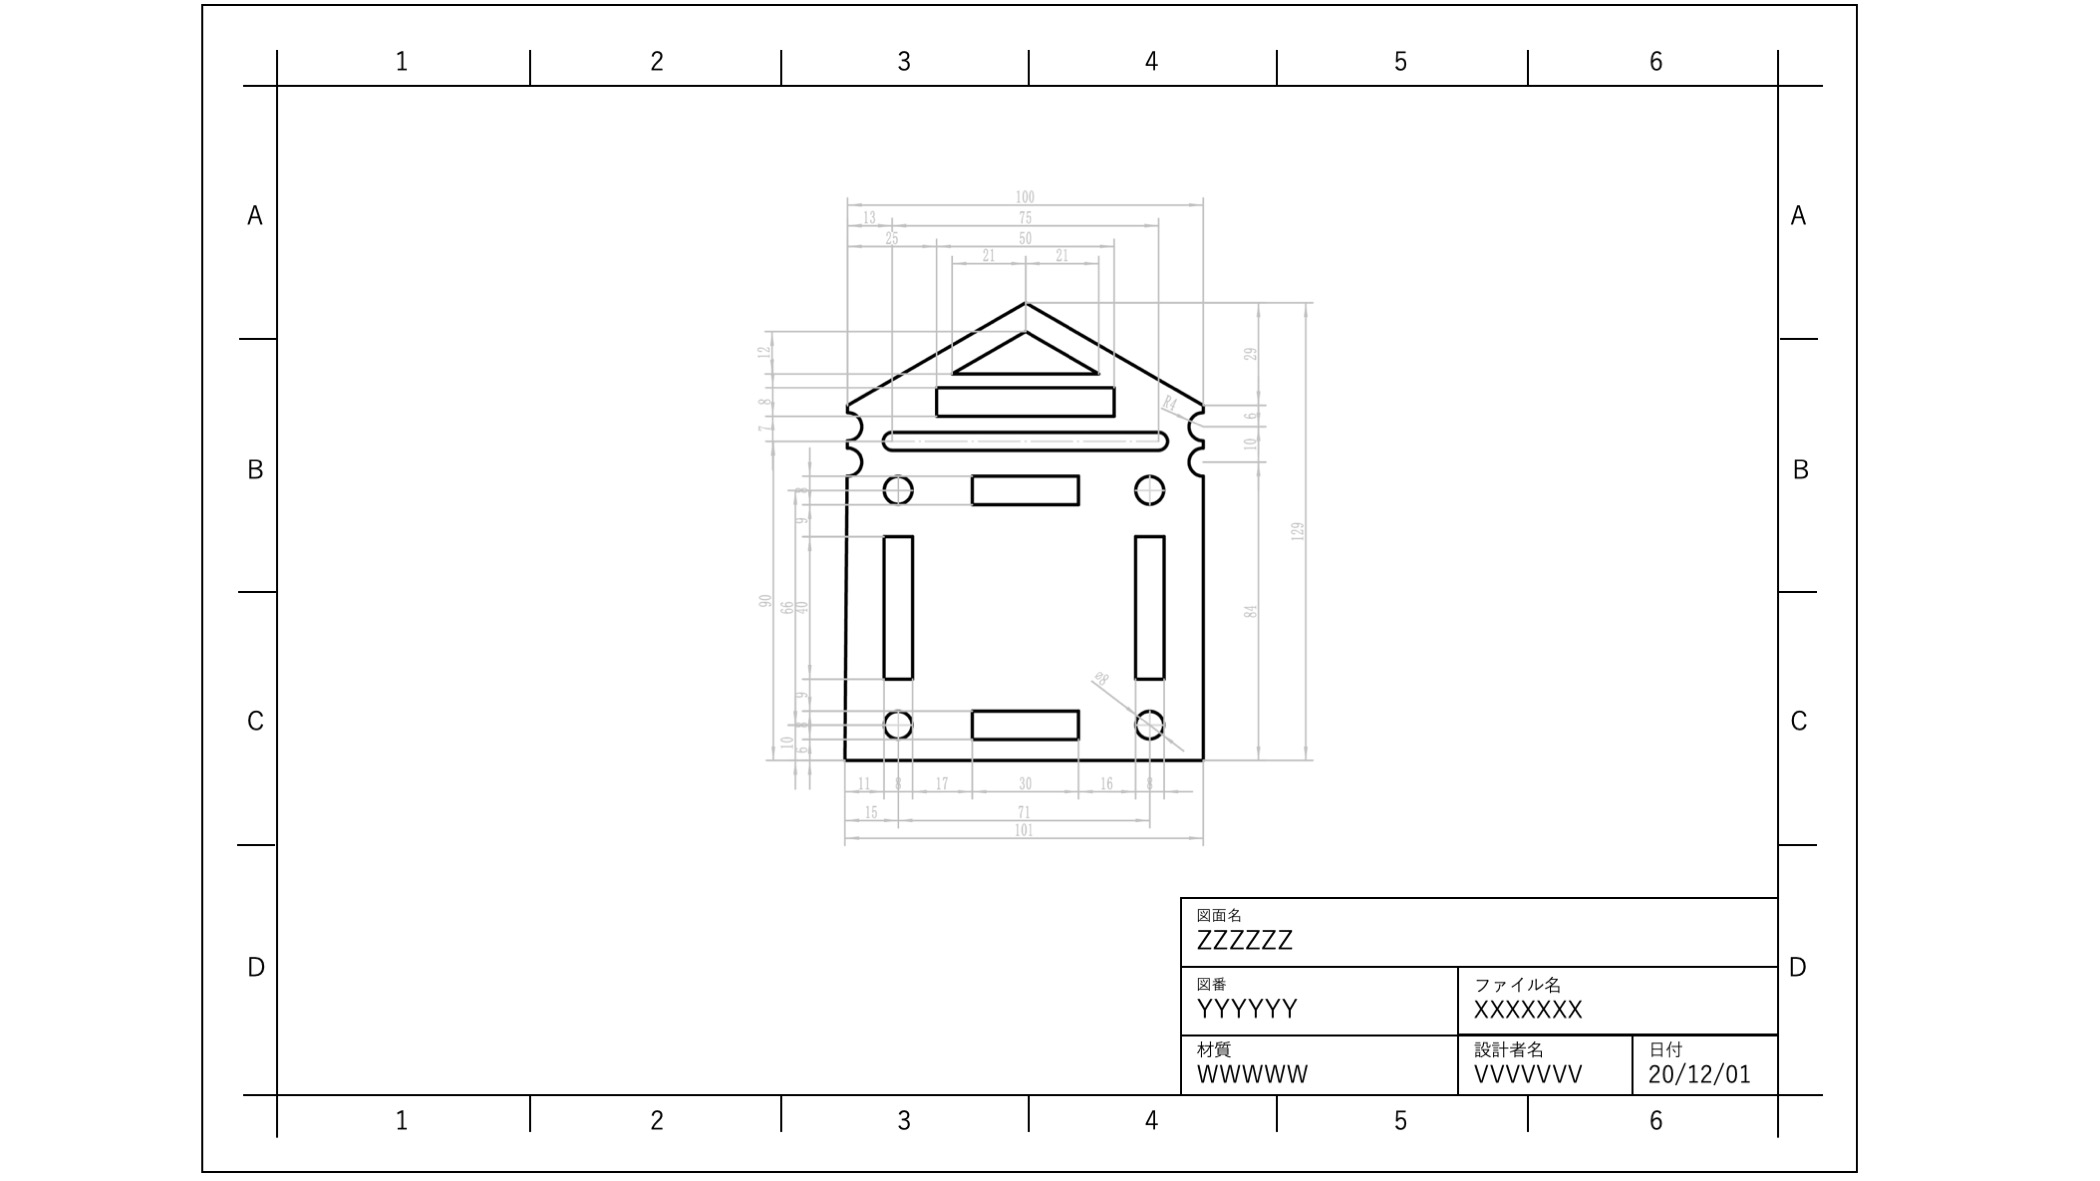circle: (878, 704, 920, 744), (1129, 701, 1165, 746), (878, 469, 917, 506), (1129, 469, 1164, 505)
rectangle: (930, 381, 1122, 424), (1131, 525, 1167, 686), (966, 699, 1090, 746), (880, 528, 914, 688), (965, 470, 1086, 512)
round_rectangle: (875, 425, 1184, 457)
triangle: (948, 326, 1100, 373)
